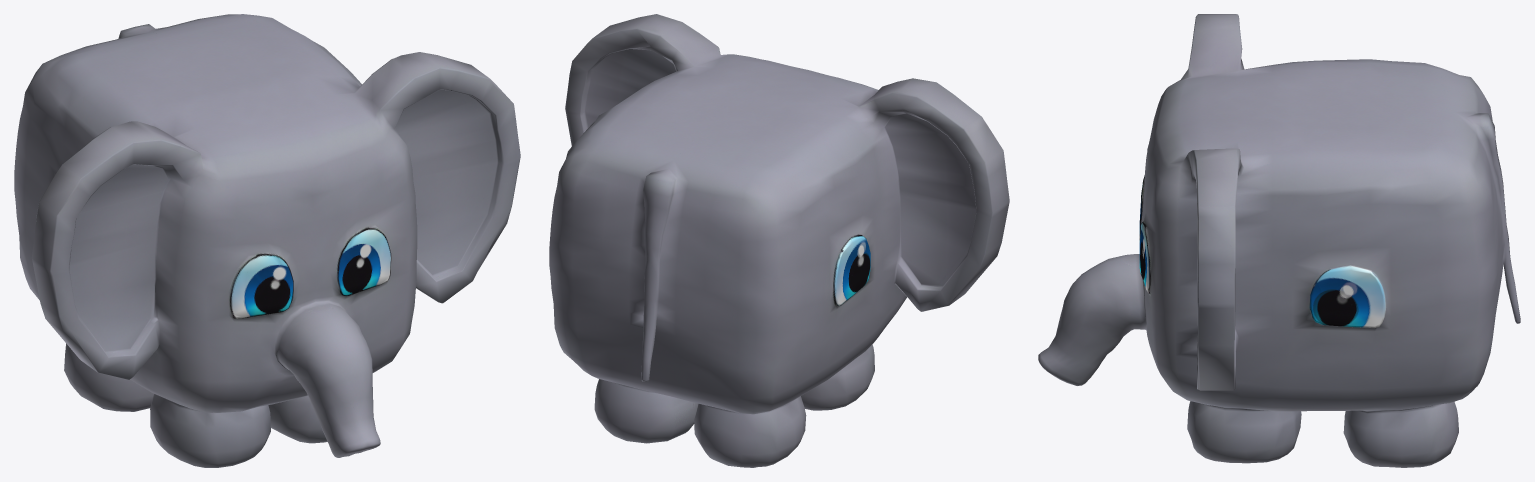
The model's file is elephant_basic.glb.
3 renders of one model, left to right at view 1: azimuth 30°, elevation 25°; view 2: azimuth 150°, elevation 25°; view 3: azimuth 270°, elevation 25°, orthographic. The views are drawn at different scales.
Bounding box in the file's own units: 1.9 × 1.37 × 1.75.
1 material, 1 textured.
